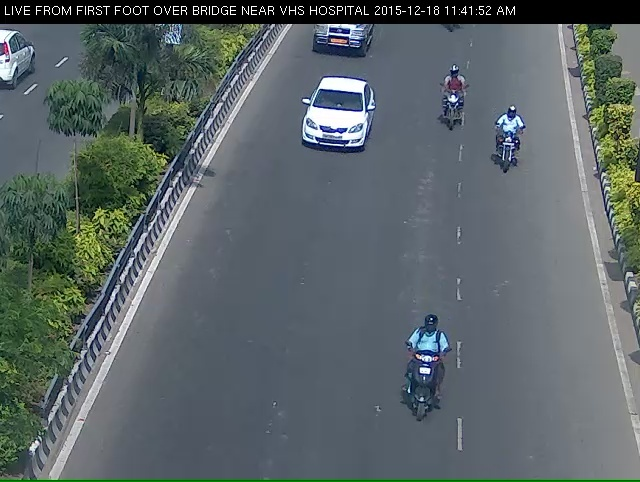Car: (296, 85, 375, 170)
Person: (393, 342, 450, 457), (428, 63, 473, 148), (497, 114, 527, 187)
